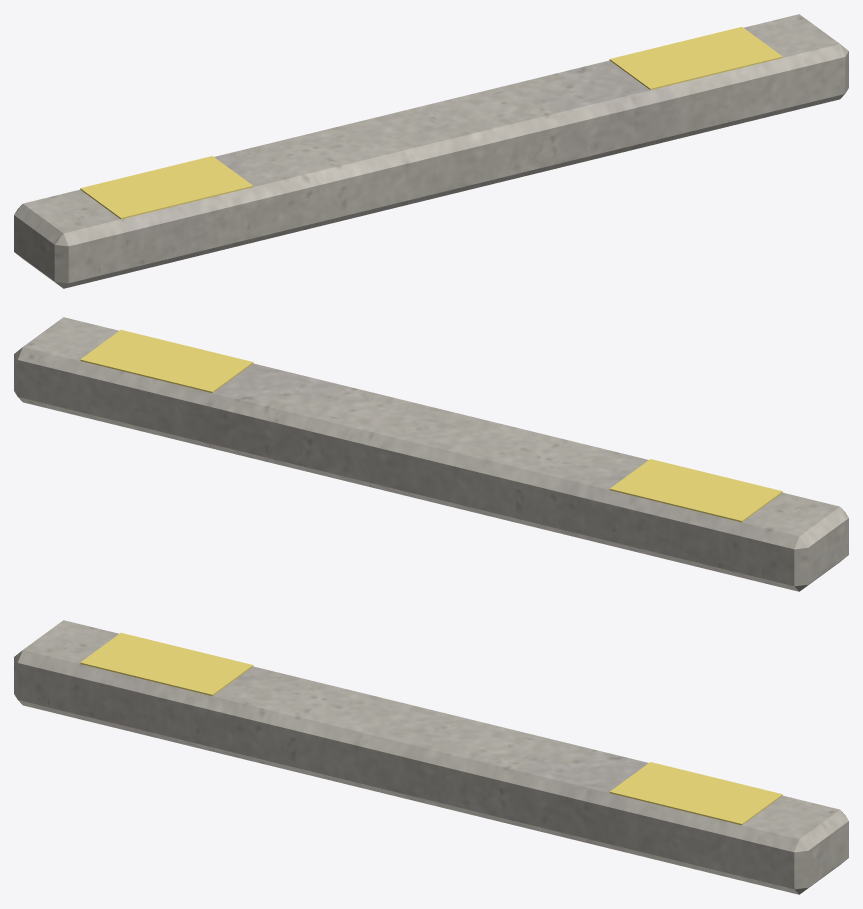
The model's file is wheel_stop.glb.
3 renders of one model, top to bottom at view 1: azimuth 30°, elevation 25°; view 2: azimuth 150°, elevation 25°; view 3: azimuth 330°, elevation 25°, orthographic.
Visible parts, largest first — view 1: wheel_stop_concrete, wheel_stop_paint_y; view 2: wheel_stop_concrete, wheel_stop_paint_y; view 3: wheel_stop_concrete, wheel_stop_paint_y.
Part boxes in pixels (bbox=[...]): wheel_stop_concrete: bbox=[14, 14, 848, 288]; wheel_stop_paint_y: bbox=[80, 27, 782, 219]; wheel_stop_concrete: bbox=[14, 317, 848, 591]; wheel_stop_paint_y: bbox=[80, 330, 782, 522]; wheel_stop_concrete: bbox=[14, 620, 848, 894]; wheel_stop_paint_y: bbox=[80, 633, 782, 825].
Bounding box in the file's own units: 1.8 × 0.123 × 0.2.
2 materials, 1 textured.
